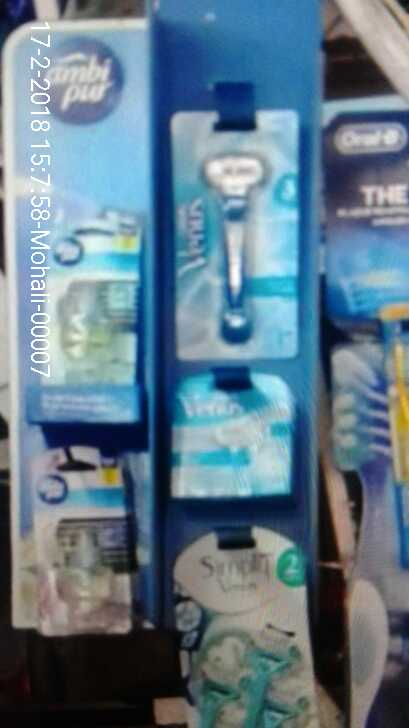beauty: (166, 122, 301, 366), (169, 374, 292, 495)
home: (26, 200, 143, 431), (36, 463, 138, 637)
